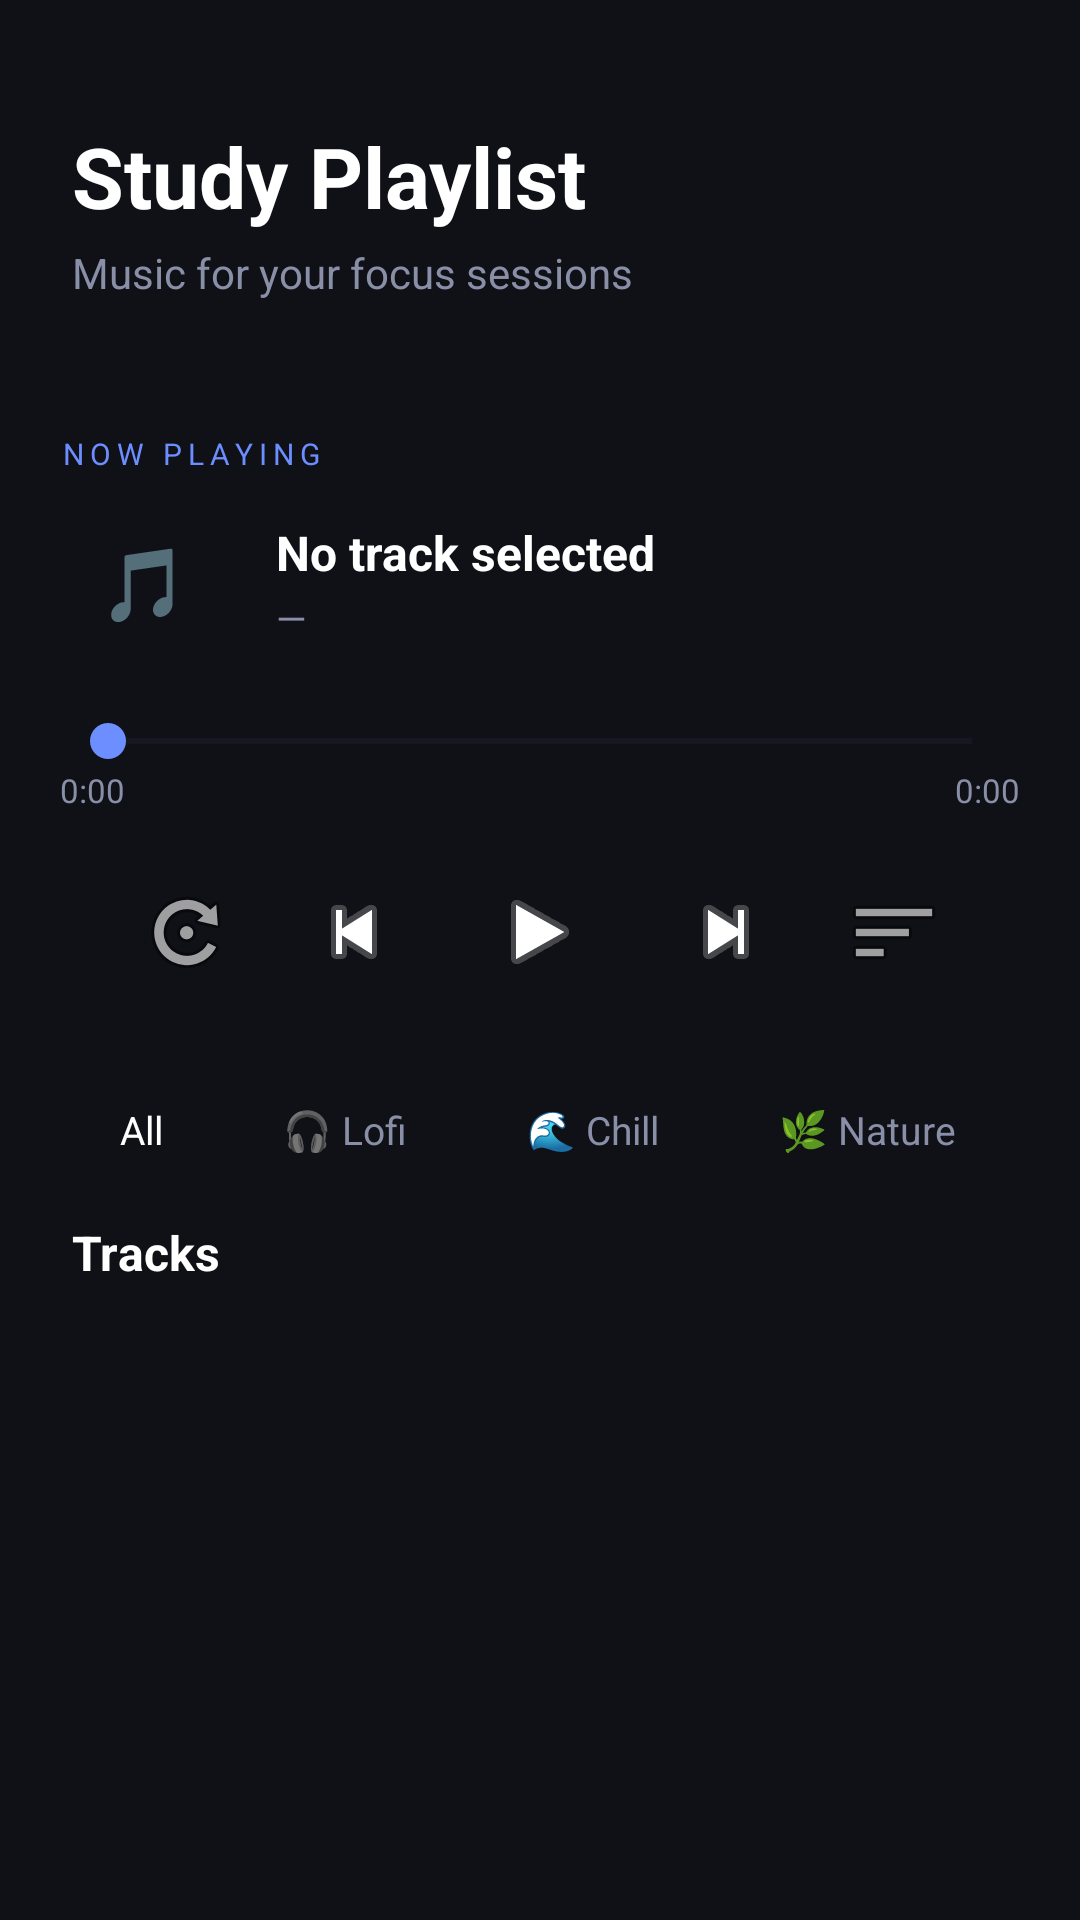

Screen size 1080*1920. Icon name, then its center in pixels as (x=x, y=y):
Loop: (x=186, y=932)
Next: (x=726, y=932)
Play/Pause: (x=540, y=932)
Previous: (x=354, y=932)
